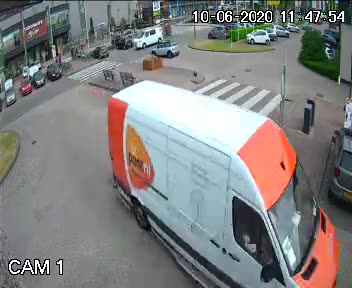car: (104, 77, 352, 288), (127, 26, 168, 47), (150, 40, 182, 59)
